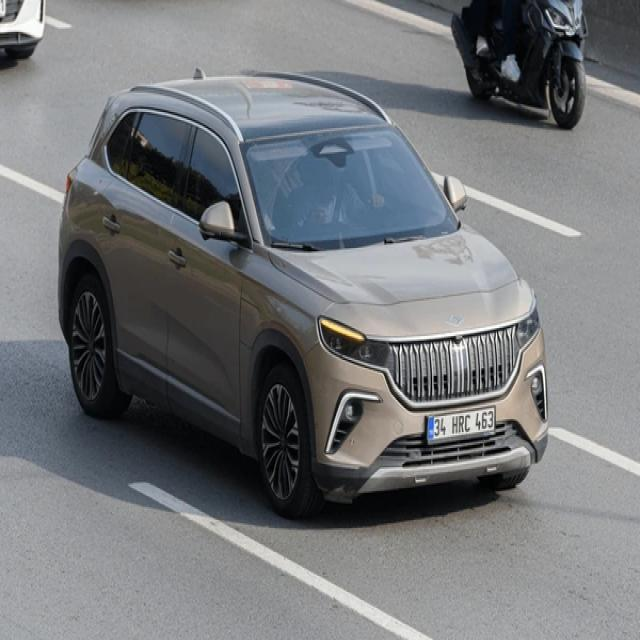togg: (444, 313, 464, 330)
